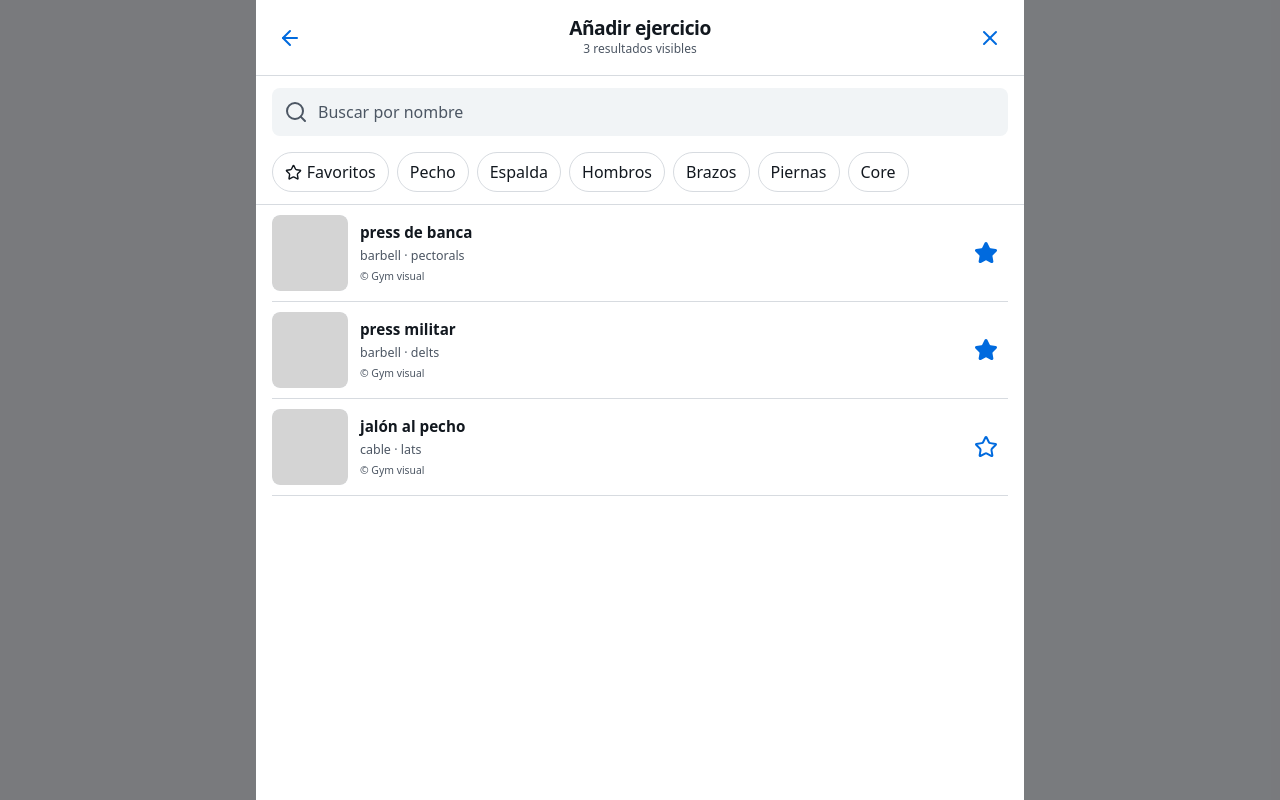
Test: ExercisePicker › groups favorite exercises by muscle group in the defined order
Step 1. Click the button "Favoritos" → point(330, 172), box [272,152,389,192]
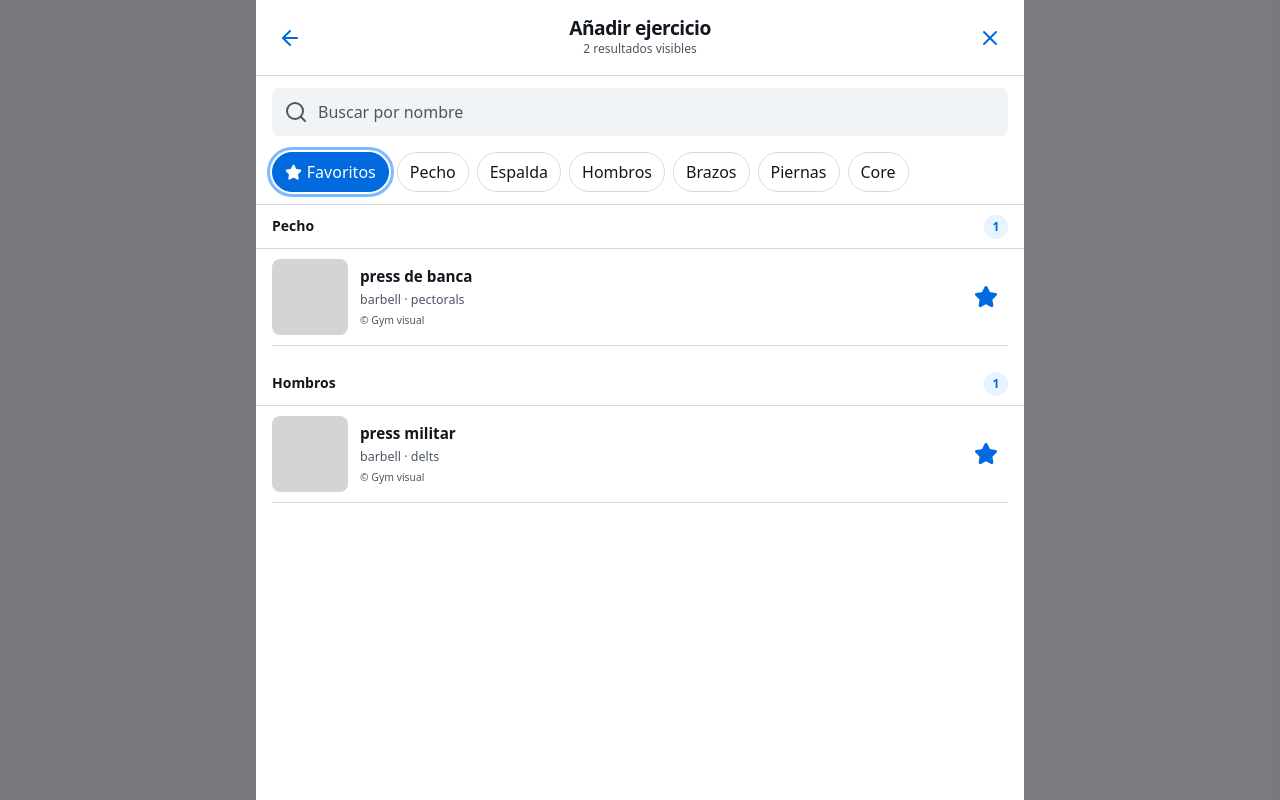
Expected: the text "press de banca" is shown, [360,265,472,288]
Expected: the headings read "Pecho1", "Hombros1", in this order, [256,205,1024,249]; [256,362,1024,406]
